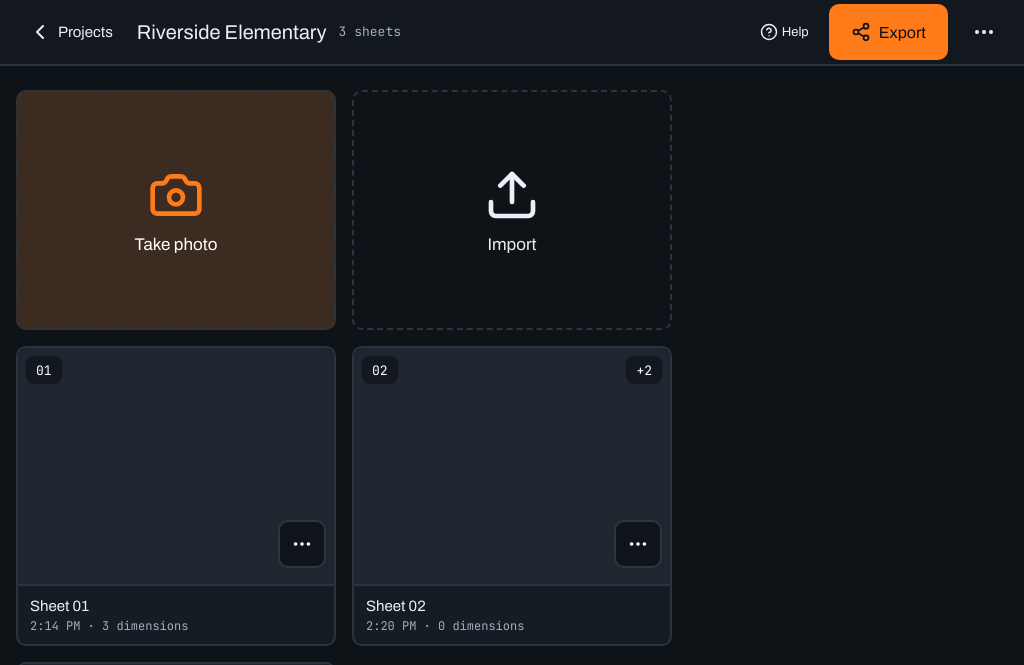
Test case: rename — inline on the card, honest about failure › a rejected rename keeps the field open on the old title and says so
The image size is (1024, 665).
Click the button with test id "sheet-card-menu-s1" at (302, 544), box [278, 520, 326, 568]
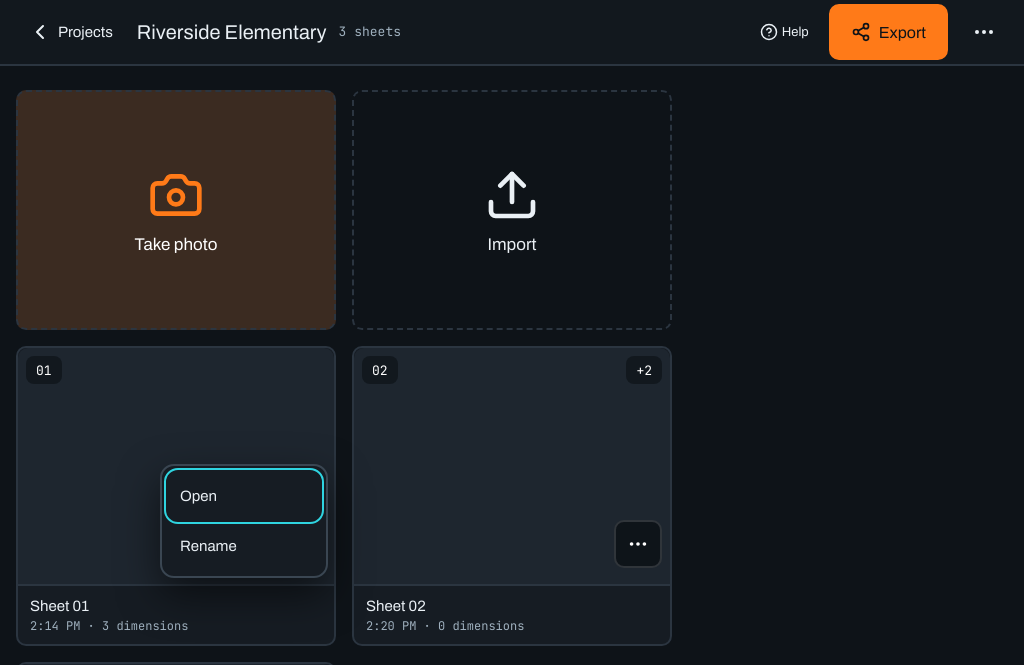
Click the menu item "Rename" at (244, 546), box [168, 522, 320, 570]
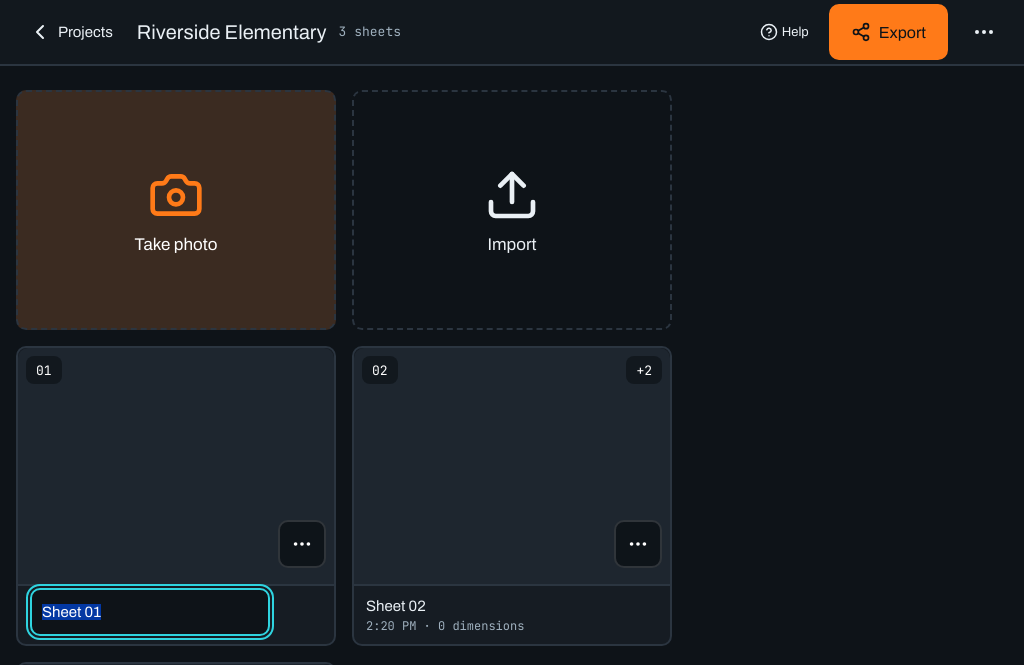
Replace the text in the field named "Sheet name" with "Renamed" at (150, 612), box [30, 588, 270, 636]
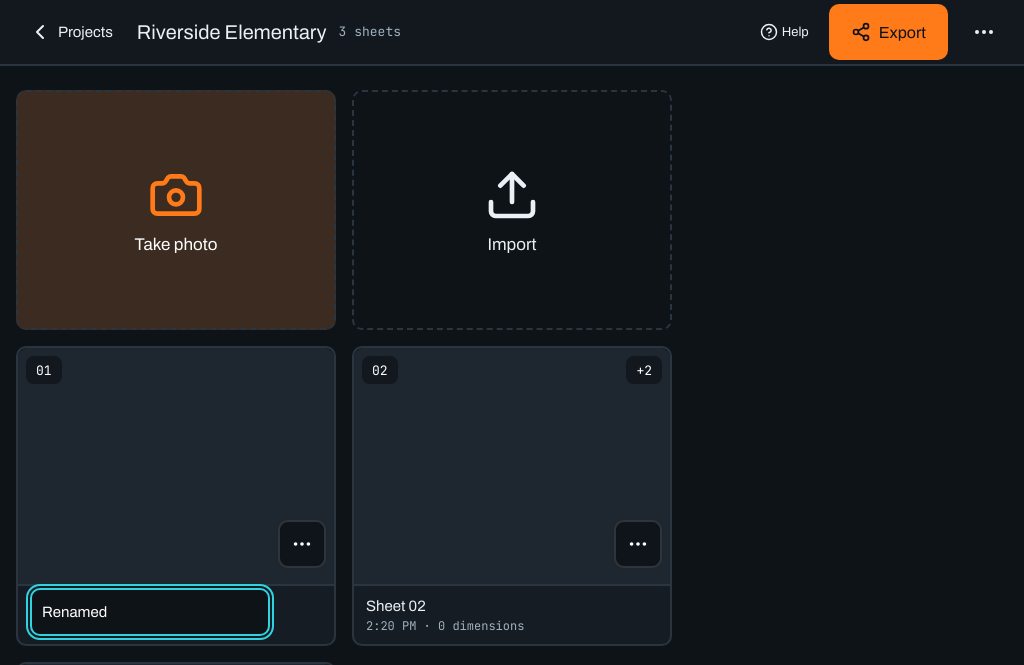
Press Enter
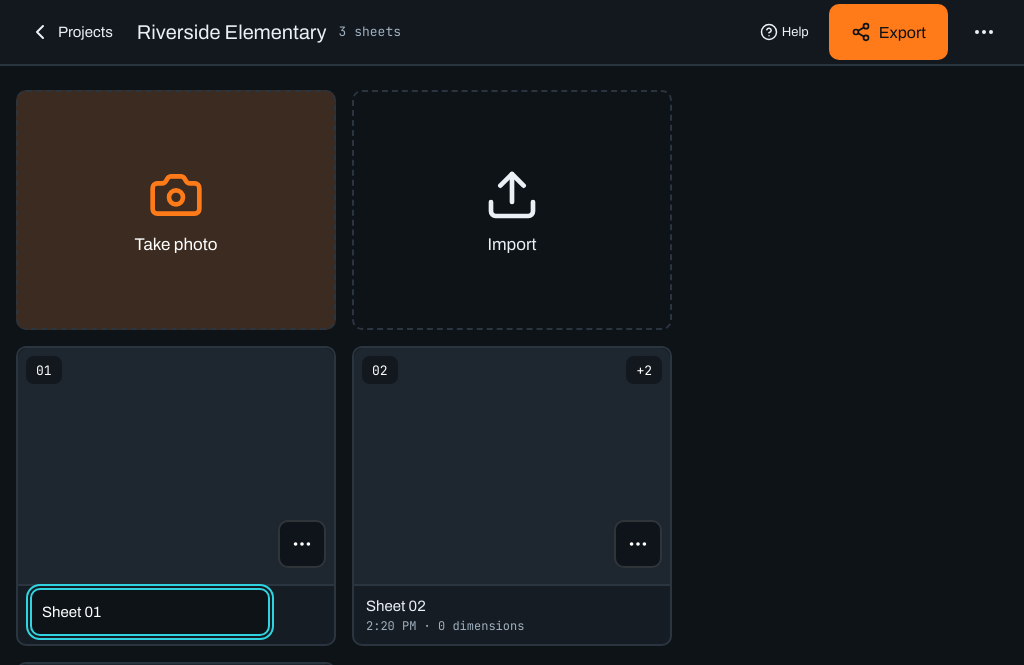
Expected: the field named "Sheet name" holds "Sheet 01", [30, 588, 270, 636]
